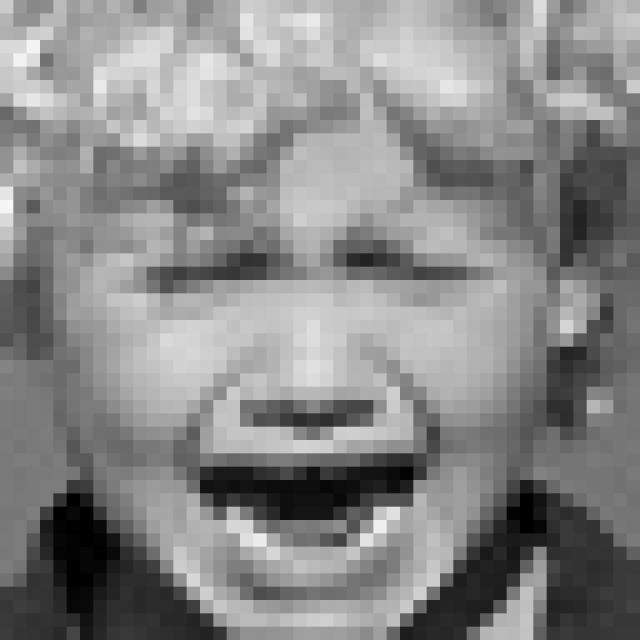sad: (111, 208, 464, 603)
